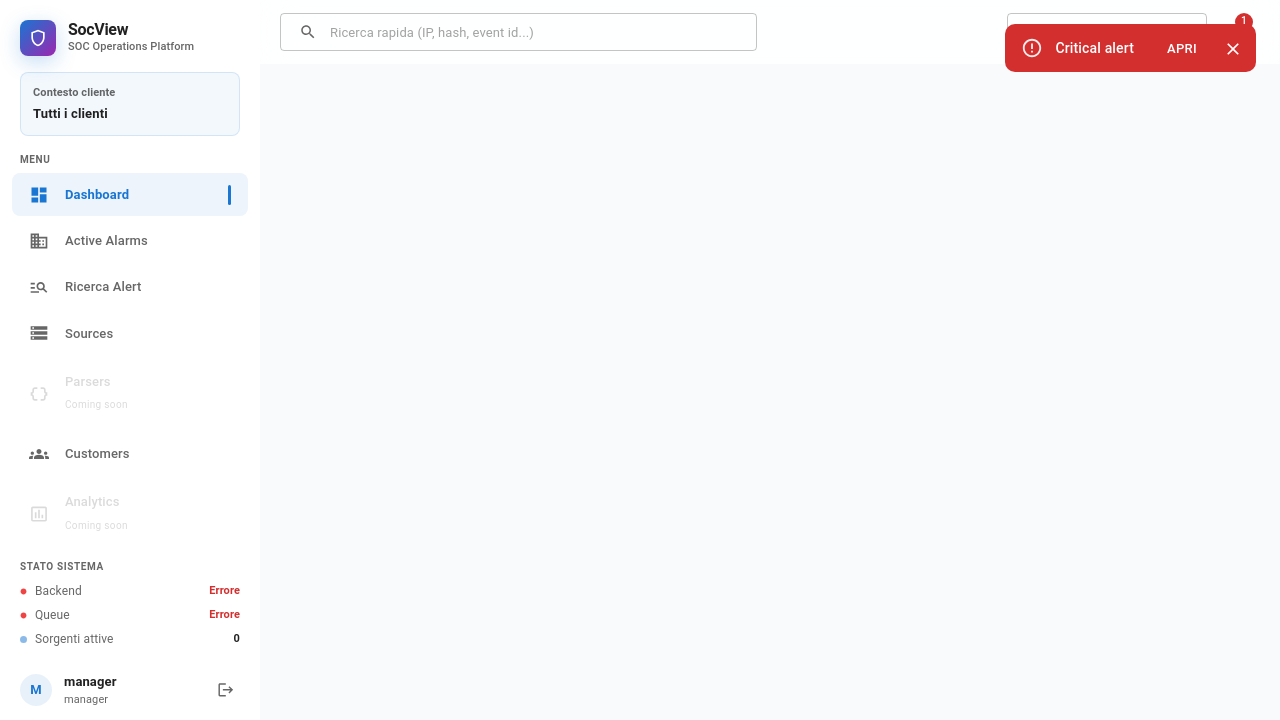
Test: AppLayout critical notification popup › chiude con la X senza navigare
Expected: the message "Critical alert Apri" is shown, [1005,24,1256,72]
Click the button with test id "critical-popup-close-button": click(1233, 49) [1218,34,1248,64]
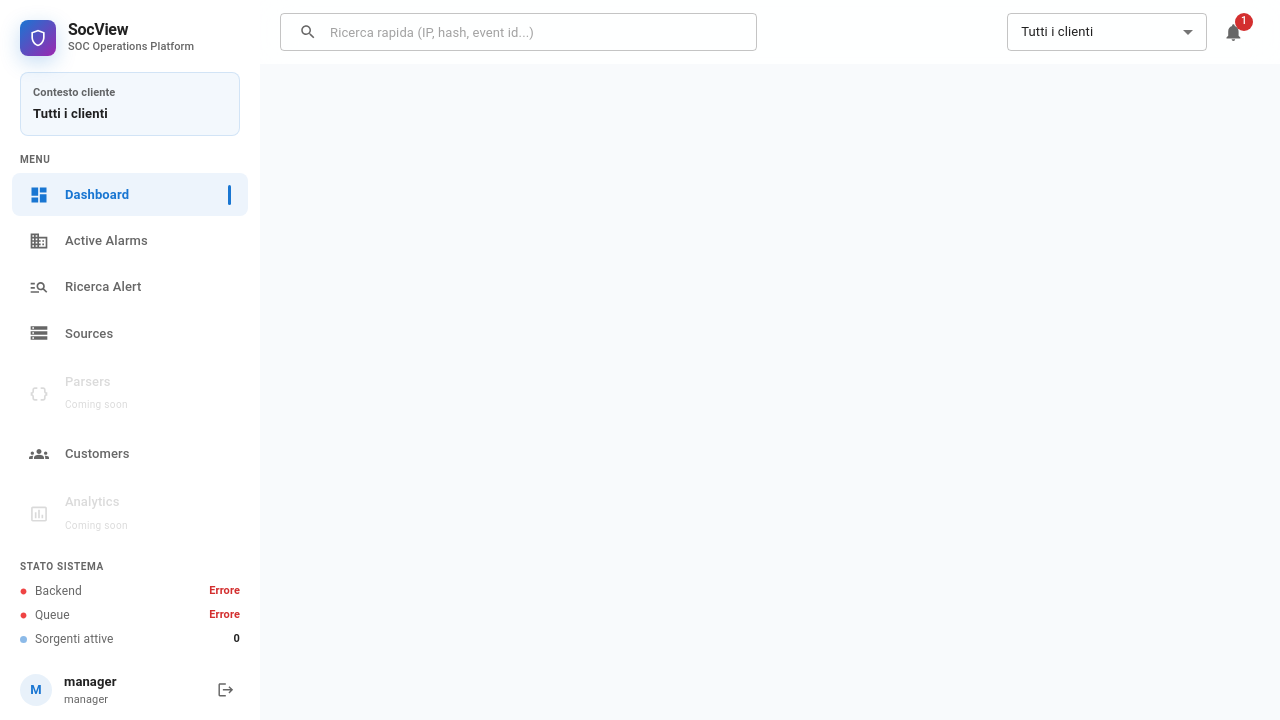
Expected: the message with test id "critical-popup-alert" is gone
